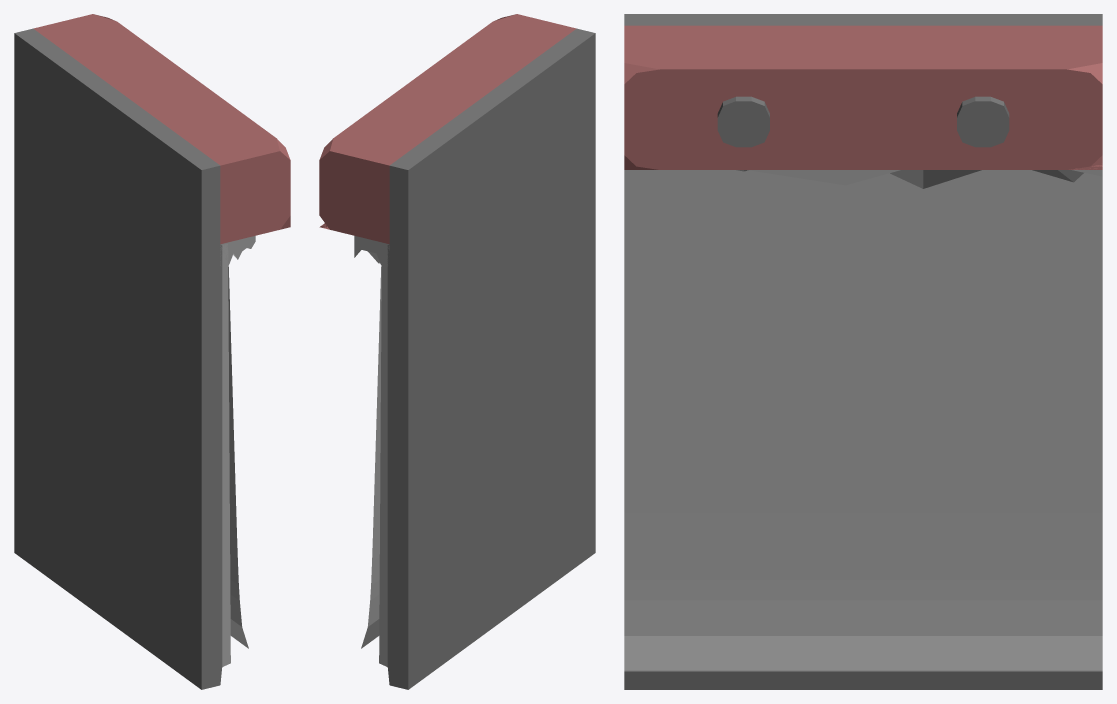
File: Calender_After.fbx
The picture shows the model from 3 angles, left to right: view 1: azimuth 30°, elevation 25°; view 2: azimuth 150°, elevation 25°; view 3: azimuth 270°, elevation 25°; orthographic projection. The views are drawn at different scales.
Parts seen in each view (by area): view 1: pCube1; view 2: pCube1; view 3: pCube1.
Boxes of the visible parts, x1,y1,x2,y2 form: pCube1: (14, 14, 290, 689); pCube1: (319, 14, 595, 689); pCube1: (624, 14, 1102, 689).
Bounding box in the file's own units: 0.1318 × 0.6811 × 0.4447.
